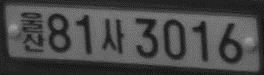0: (163, 18, 187, 59)
1: (192, 19, 209, 63), (75, 14, 92, 56)
3: (134, 16, 158, 58)
6: (217, 21, 244, 64)
8: (47, 11, 71, 53)
사: (100, 17, 125, 55)
울산_V: (20, 11, 45, 54)
